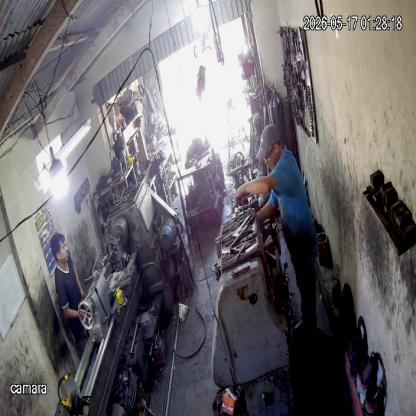lentes: (262, 144, 276, 162)
